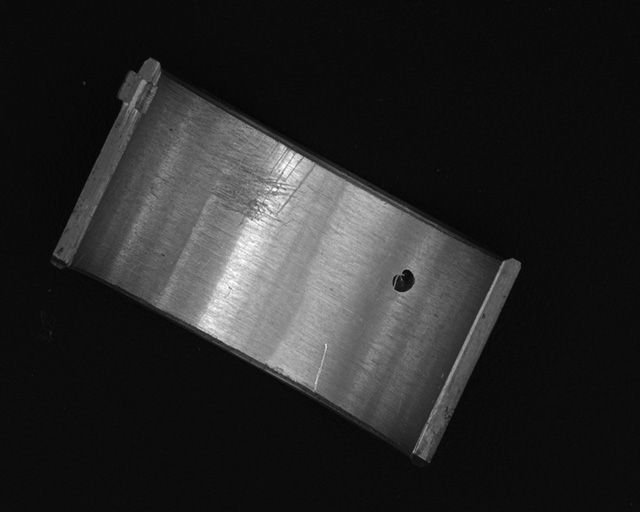blot: (391, 269, 416, 293)
nick: (312, 343, 328, 391)
scratch: (196, 100, 316, 227)
